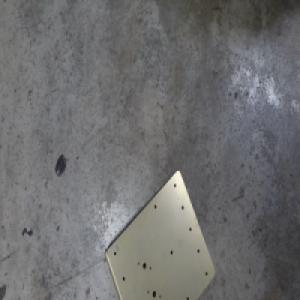MetalSheet: (102, 167, 216, 300)
